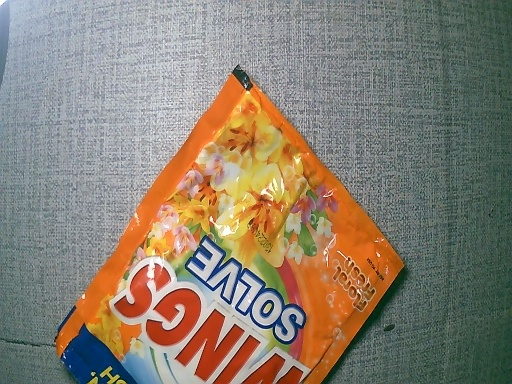plastic: (52, 69, 407, 384)
